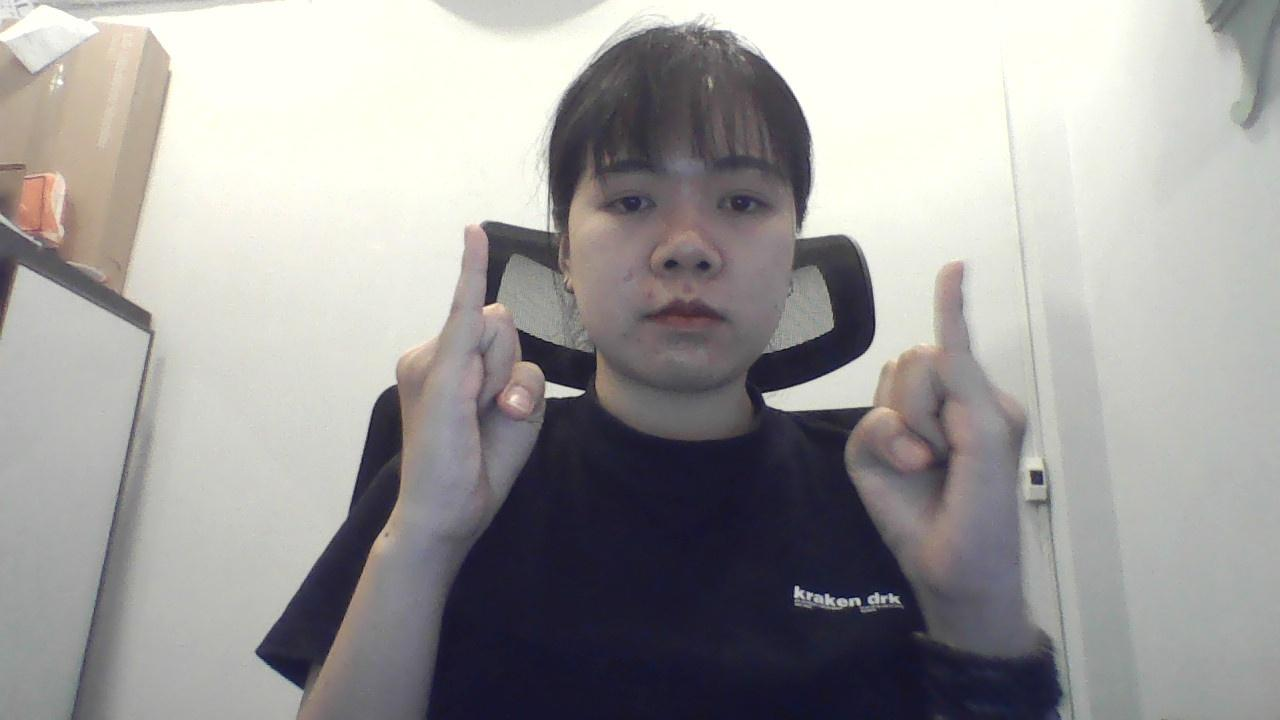I: (840, 250, 1050, 621), (387, 212, 554, 565)
